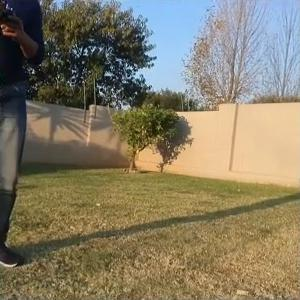follow: (0, 0, 47, 272)
